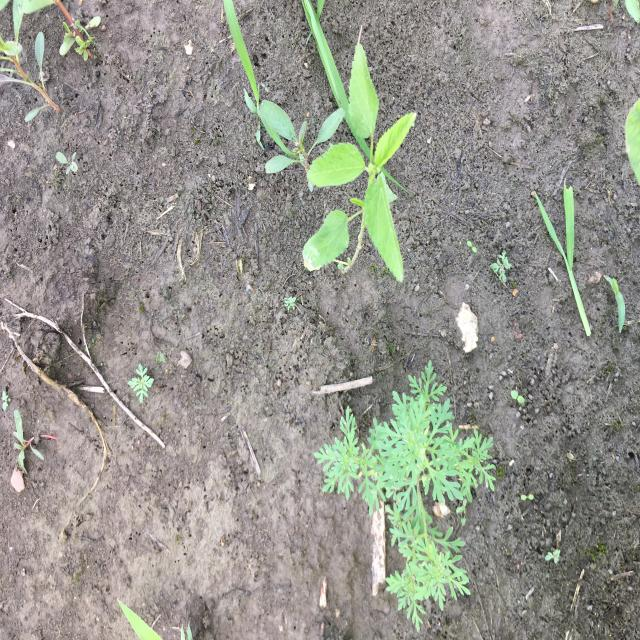PricklySida: (300, 39, 420, 287)
Ragweed: (311, 358, 499, 633), (127, 363, 156, 408), (489, 248, 513, 288)
Waterhemp: (255, 98, 348, 194), (10, 408, 60, 472)
